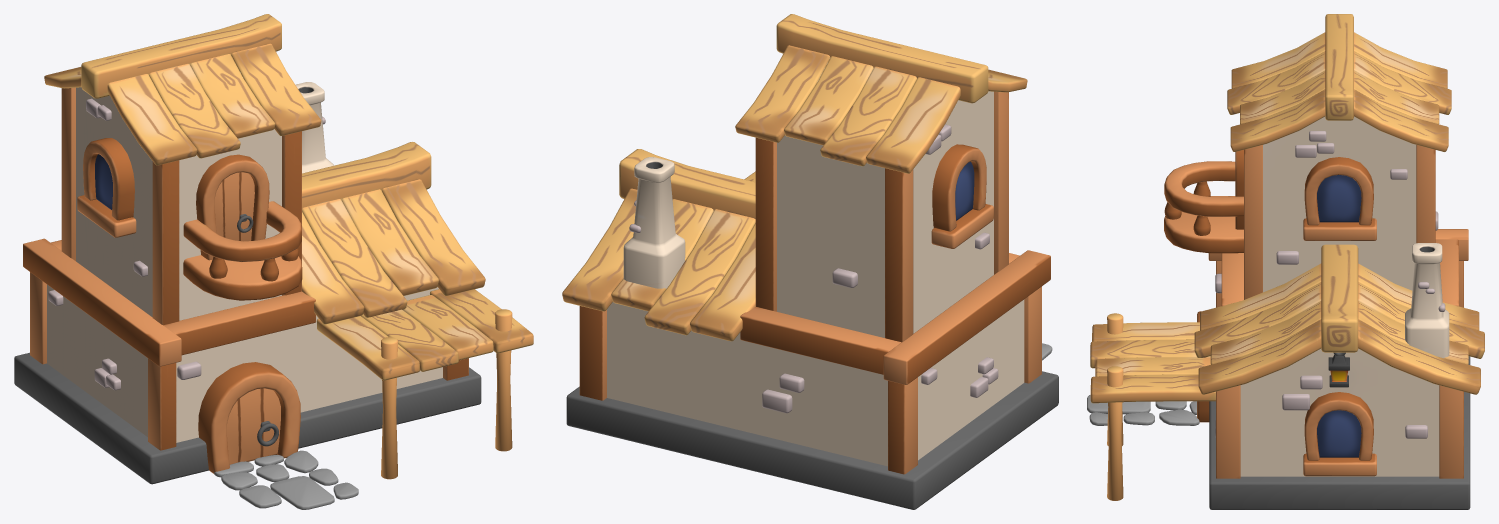
Rendered from house2.fbx.
3 views of the same model, side by side, from view 1: azimuth 30°, elevation 25°; view 2: azimuth 150°, elevation 25°; view 3: azimuth 270°, elevation 25° (orthographic). The views are drawn at different scales.
Parts seen in each view (by area): view 1: house2.001; view 2: house2.001; view 3: house2.001.
Part boxes in pixels (left/top/right/bottom): house2.001: left=14, top=14, right=533, bottom=509; house2.001: left=562, top=14, right=1058, bottom=509; house2.001: left=1087, top=14, right=1484, bottom=509.
Bounding box in the file's own units: 795 × 827 × 848.
